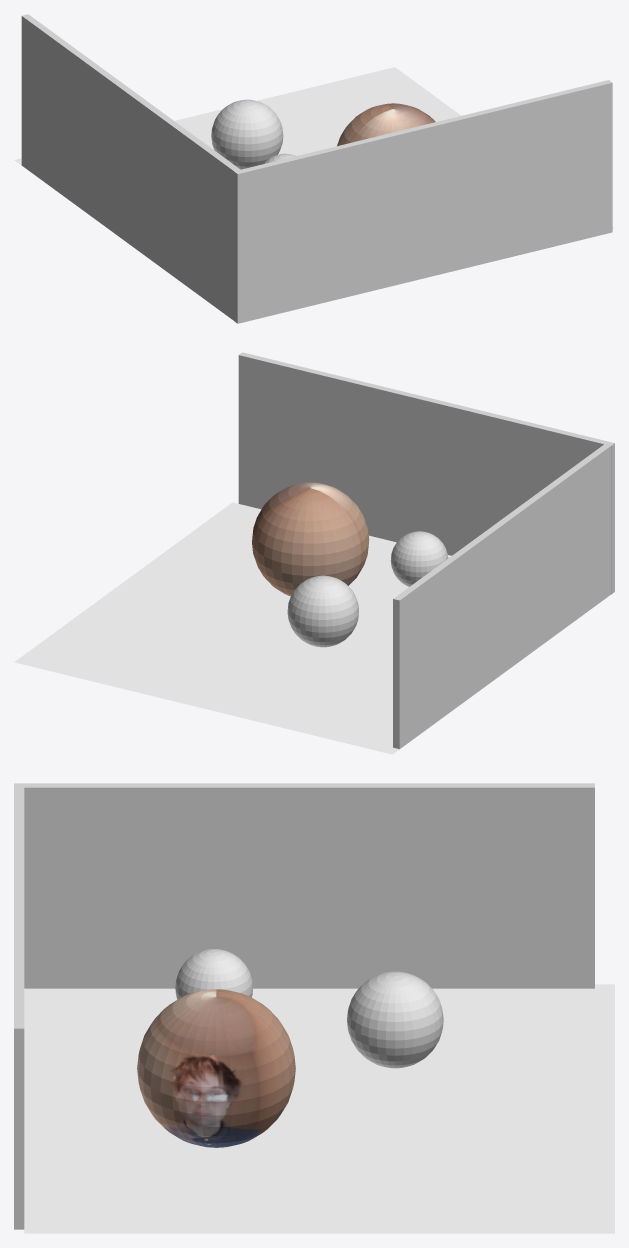
The model's file is firstscene.glb.
The picture shows the model from 3 angles, top to bottom: view 1: azimuth 30°, elevation 25°; view 2: azimuth 150°, elevation 25°; view 3: azimuth 270°, elevation 25°; orthographic projection. The views are drawn at different scales.
Parts seen in each view (by area): view 1: Cube, Cube.001, Plane, Sphere.002, Sphere; view 2: Plane, Cube, Cube.001, Sphere, Sphere.002, Sphere.001; view 3: Plane, Cube.001, Sphere, Sphere.002, Cube, Sphere.001.
Boxes of the visible parts, left/top/right/bottom form: Cube: left=234, top=80, right=612, bottom=323; Cube.001: left=21, top=14, right=244, bottom=323; Plane: left=14, top=67, right=614, bottom=319; Sphere.002: left=211, top=99, right=283, bottom=169; Sphere: left=337, top=103, right=435, bottom=145; Plane: left=14, top=502, right=608, bottom=754; Cube: left=238, top=352, right=614, bottom=594; Cube.001: left=393, top=442, right=614, bottom=749; Sphere: left=252, top=482, right=369, bottom=596; Sphere.002: left=287, top=575, right=358, bottom=647; Sphere.001: left=390, top=531, right=448, bottom=586; Plane: left=24, top=984, right=614, bottom=1233; Cube.001: left=14, top=783, right=594, bottom=988; Sphere: left=137, top=989, right=295, bottom=1147; Sphere.002: left=347, top=971, right=443, bottom=1068; Cube: left=14, top=783, right=24, bottom=1229; Sphere.001: left=175, top=949, right=253, bottom=999.
Size of the model in its own units: 21.71 by 8.36 by 22.09.
Materials: 4 (1 with a texture image).
